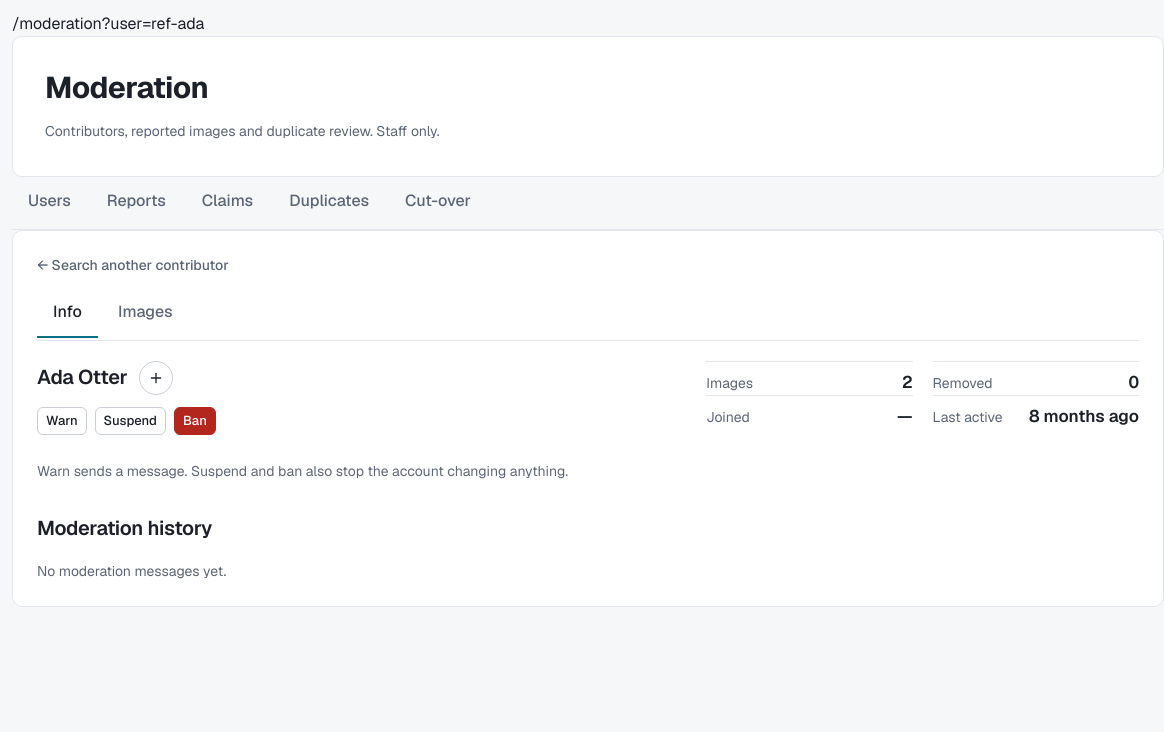
Test: the URL is the source of truth › switches to the Images tab through the link
Click the link "Images" at (145, 311), box x1=118 y1=300 x2=173 y2=322
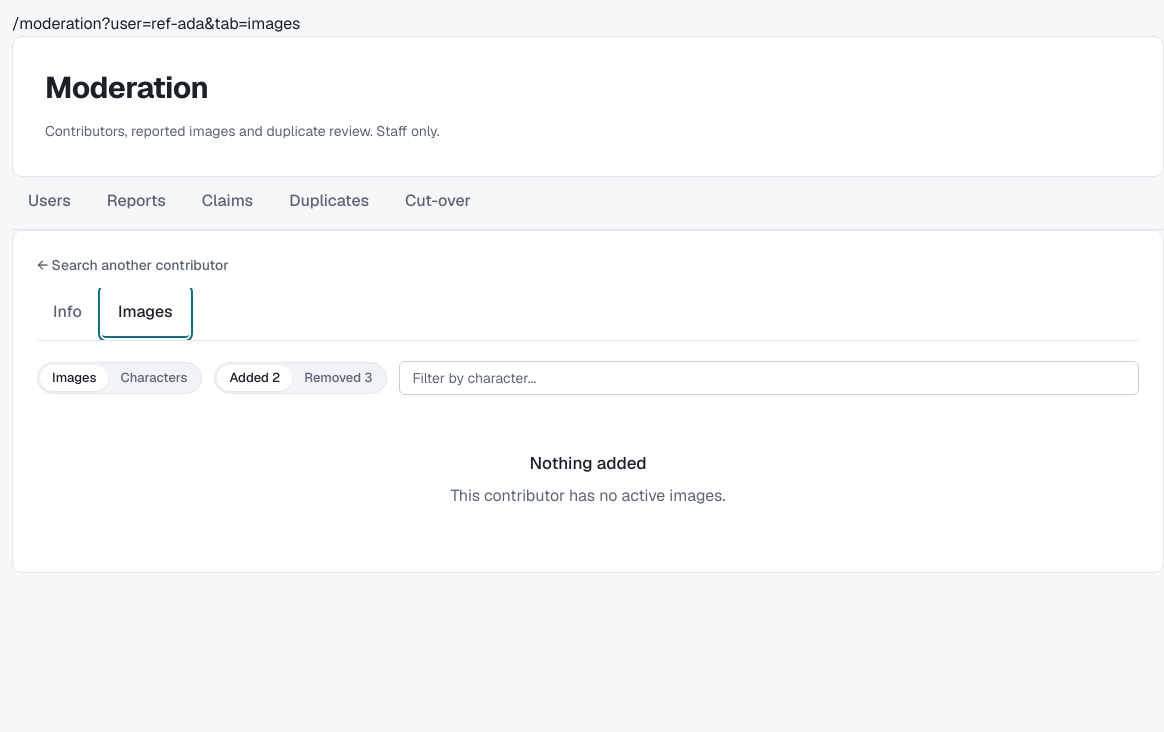
Expected: the text with test id "location" shows "tab=images", x1=12 y1=13 x2=300 y2=34
Expected: the search field labelled "Filter by character" is shown, x1=399 y1=360 x2=1139 y2=394
